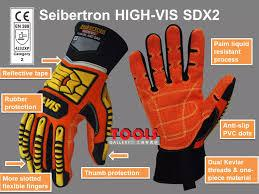gloves: (18, 20, 129, 188), (129, 23, 237, 185)
